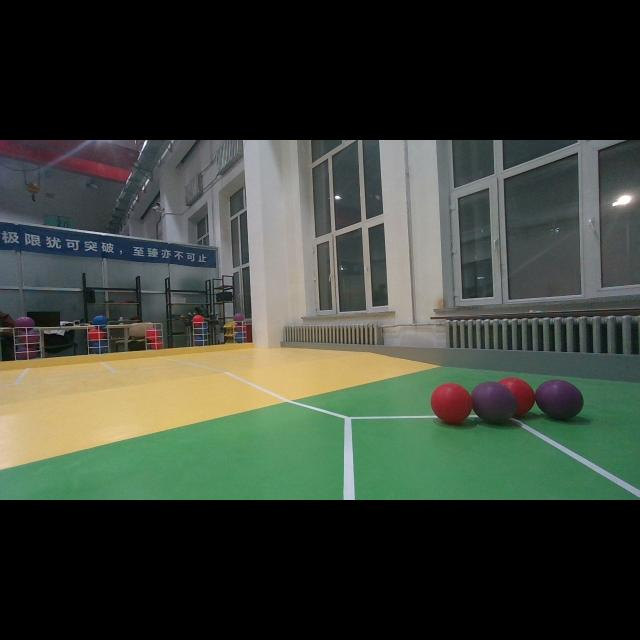P: (471, 382, 517, 424), (535, 380, 583, 420)
R: (431, 383, 472, 423), (497, 378, 535, 414)
S: (8, 324, 49, 368), (86, 322, 112, 370), (140, 324, 166, 356), (190, 319, 214, 349), (231, 320, 245, 348)
